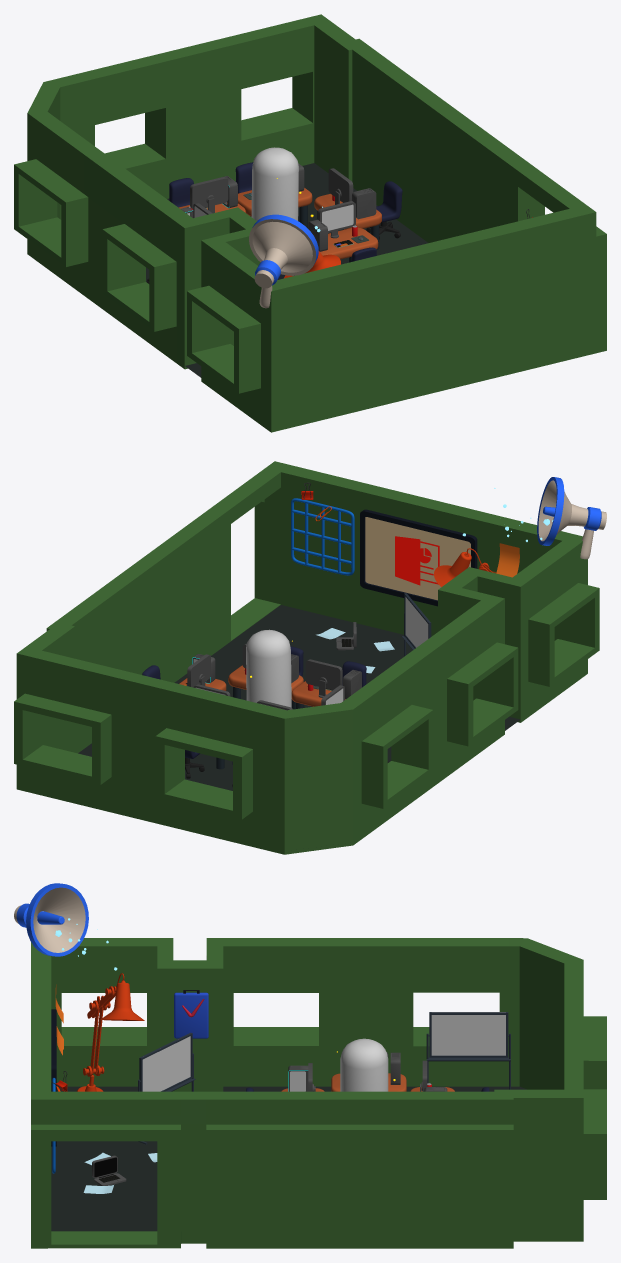
File: design.fbx
3 views of the same model, one above another, from view 1: azimuth 30°, elevation 25°; view 2: azimuth 150°, elevation 25°; view 3: azimuth 270°, elevation 25° (orthographic). The views are drawn at different scales.
Parts seen in each view (by area): view 1: Office.008, Cylinder.001, Vert.003, desk.007, desk.010, Plane.001, desk.003, desk.004; view 2: Office.008, Plane.001, Cube.003, Vert.003, Cylinder.001, desk.011, Fluent_Wire.010, Plane.014, desk.007, Backboard, desk.010, Fluent_Wire.019 (+2 smaller); view 3: Office.008, Plane.001, Backboard.002, Cylinder.001, Backboard, Vert.003, Fluent_Wire.019, Cube.005, desk.011, desk.008, Plane.016.
Boxes of the visible parts, <box> form: Office.008: <box>14,14,606,432</box>; Cylinder.001: <box>249,214,318,308</box>; Vert.003: <box>251,147,298,220</box>; desk.007: <box>314,168,402,249</box>; desk.010: <box>308,201,378,262</box>; Plane.001: <box>146,163,428,377</box>; desk.003: <box>169,176,245,213</box>; desk.004: <box>235,162,312,228</box>; Office.008: <box>14,461,599,854</box>; Plane.001: <box>78,605,520,790</box>; Cube.003: <box>360,509,477,606</box>; Vert.003: <box>246,629,291,707</box>; Cylinder.001: <box>537,477,606,559</box>; desk.011: <box>291,659,366,708</box>; Fluent_Wire.010: <box>291,498,354,575</box>; Plane.014: <box>395,536,439,585</box>; desk.007: <box>142,654,226,690</box>; Backboard: <box>402,593,431,656</box>; desk.010: <box>228,643,303,709</box>; Fluent_Wire.019: <box>434,548,493,586</box>; Office.008: <box>31,938,606,1248</box>; Plane.001: <box>51,1086,526,1231</box>; Backboard.002: <box>426,1012,510,1089</box>; Cylinder.001: <box>14,883,88,956</box>; Backboard: <box>137,1032,195,1144</box>; Vert.003: <box>340,1038,388,1091</box>; Fluent_Wire.019: <box>76,973,144,1091</box>; Cube.005: <box>174,992,208,1038</box>; desk.011: <box>246,1063,324,1091</box>; desk.008: <box>331,1052,406,1091</box>; Plane.016: <box>92,1155,126,1185</box>.
Bounding box in the file's own units: 871 × 1227 × 474.
